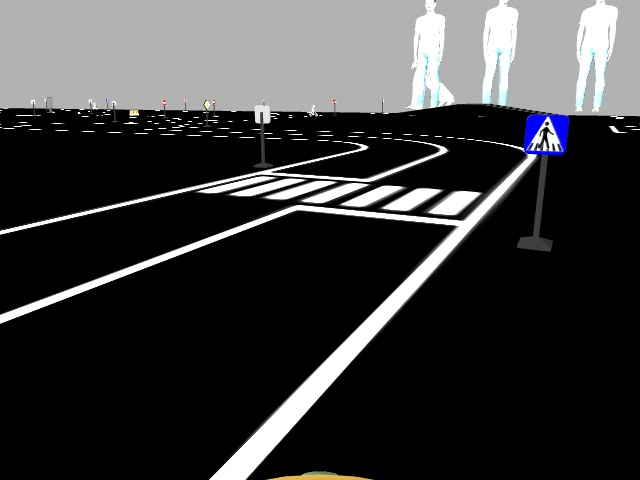Crosswalk: (526, 114, 564, 153)
